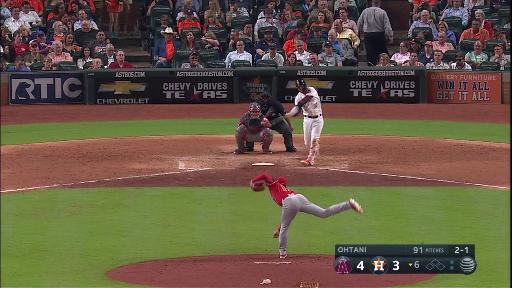pitcher: (246, 171, 368, 258)
